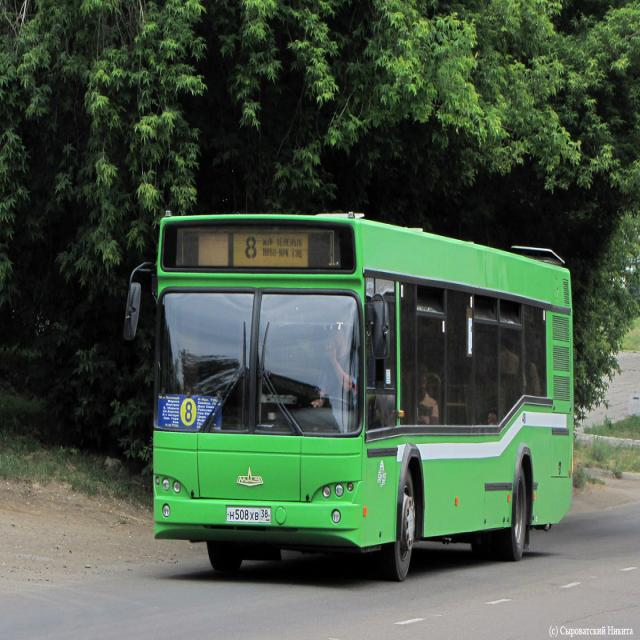number-of-bus: (245, 235, 260, 262), (184, 399, 197, 427)
